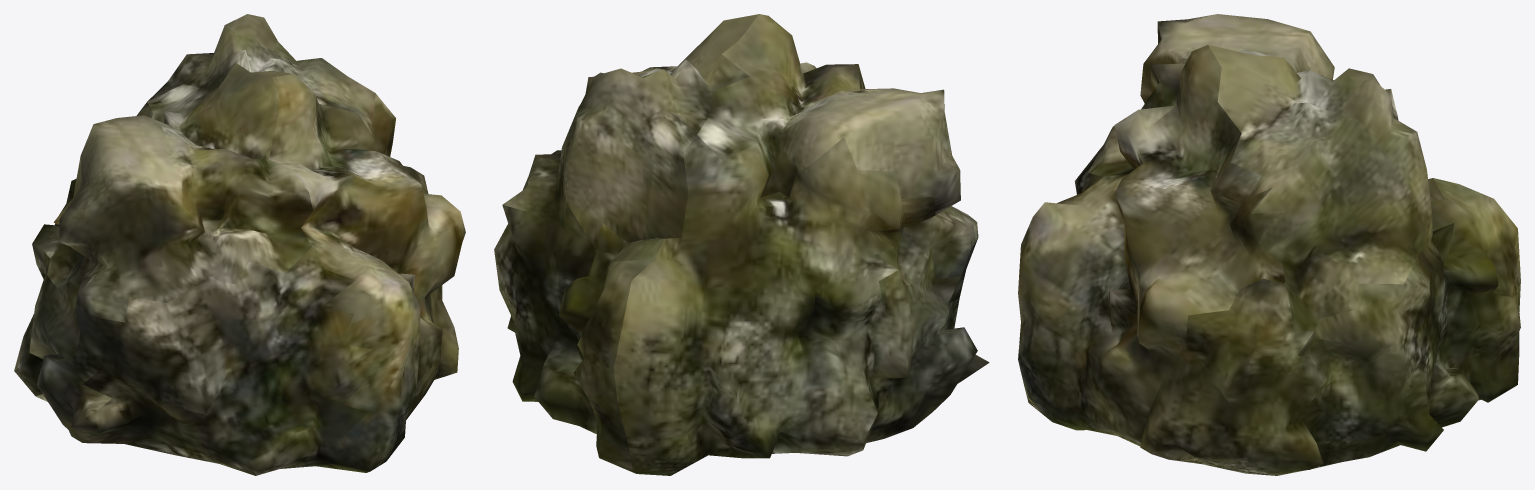
File: crystal-ethics_01.glb
3 views of the same model, side by side, from view 1: azimuth 30°, elevation 25°; view 2: azimuth 150°, elevation 25°; view 3: azimuth 270°, elevation 25° (orthographic). The views are drawn at different scales.
Parts seen in each view (by area): view 1: mesh_node.003; view 2: mesh_node.003; view 3: mesh_node.003.
Boxes of the visible parts, bbox=[...] form: mesh_node.003: bbox=[14, 14, 465, 475]; mesh_node.003: bbox=[494, 14, 989, 475]; mesh_node.003: bbox=[1018, 14, 1520, 475].
Bounding box in the file's own units: 0.333 × 0.2686 × 0.3291.
1 material, 1 textured.
